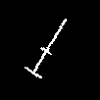double_crochet: (25, 19, 66, 77)
